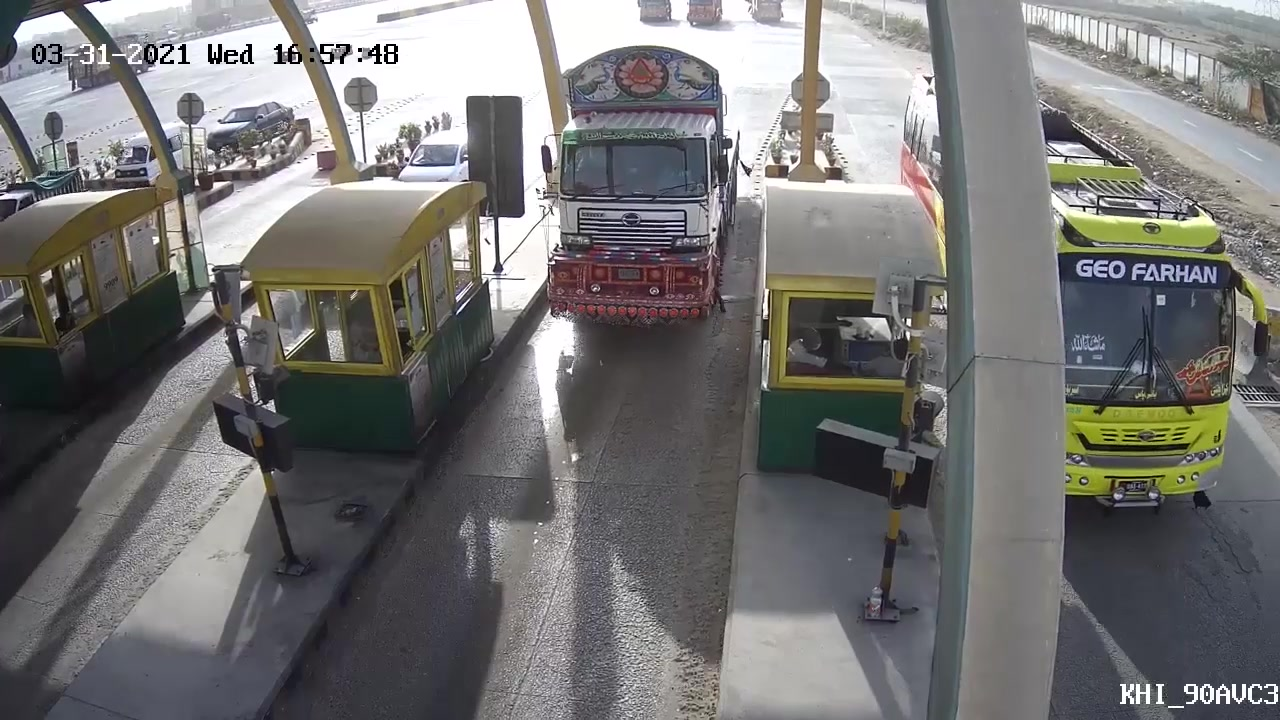F5: (540, 37, 748, 338)
